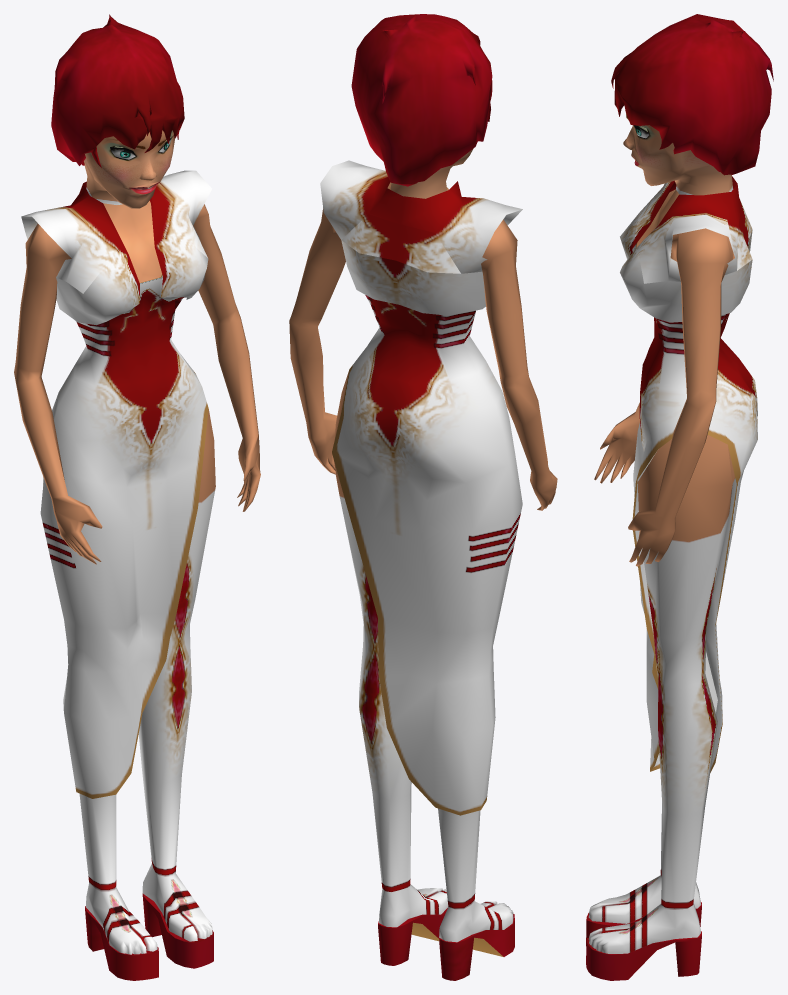
The model's file is Francesca Toucci.glb.
3 renders of one model, left to right at view 1: azimuth 30°, elevation 25°; view 2: azimuth 150°, elevation 25°; view 3: azimuth 270°, elevation 25°, orthographic. The views are drawn at different scales.
Visible parts, largest first — view 1: Francesca merge; view 2: Francesca merge; view 3: Francesca merge.
Boxes of the visible parts, left/top/right/bottom form: Francesca merge: left=14, top=14, right=260, bottom=980; Francesca merge: left=289, top=14, right=557, bottom=980; Francesca merge: left=586, top=14, right=773, bottom=980.
Bounding box in the file's own units: 1.41 × 5.39 × 0.9788.
Materials: 1 (1 with a texture image).
